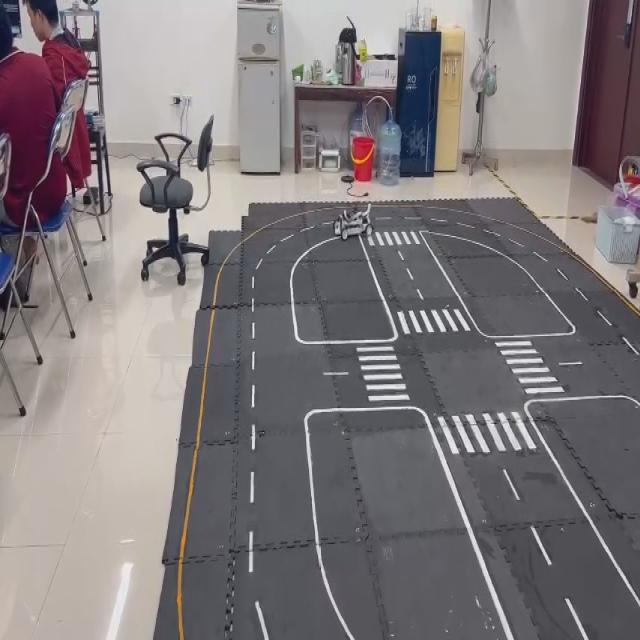SiCo-CAR: (332, 200, 373, 241)
